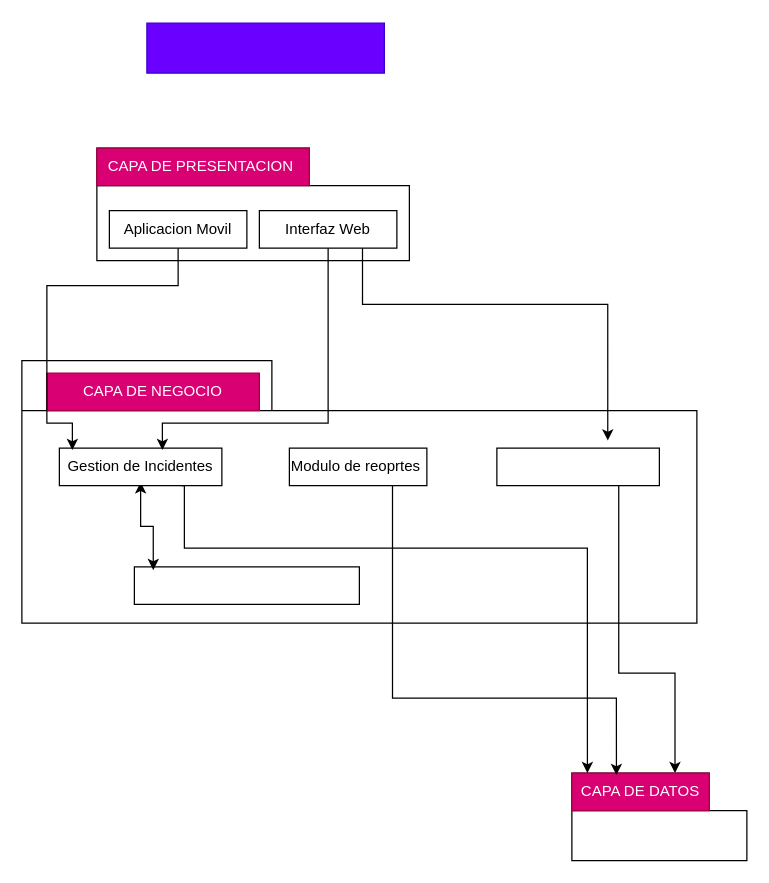
The diagram is 769 pixels wide and 883 high, and some of its shapes have lost their labels. The shapes that lost their labels are listed below. From the top down, each one's box as (x1, y1, x2, y2) in pixels, then its label:
(146, 22, 384, 73): Diagrama de Arquitectura
(496, 447, 659, 486): Gestion de usuarios
(133, 566, 359, 604): Servicios notificaciones
(571, 772, 747, 861): BASE DE DATOS
